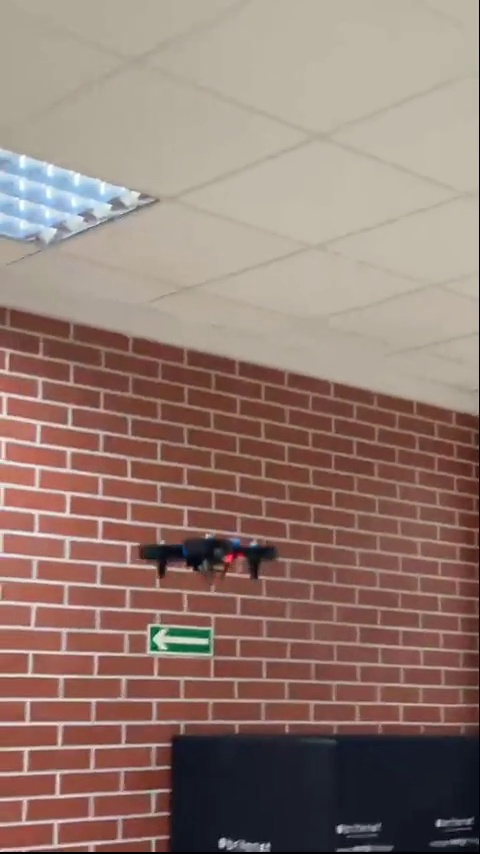drone: (143, 523, 279, 584)
